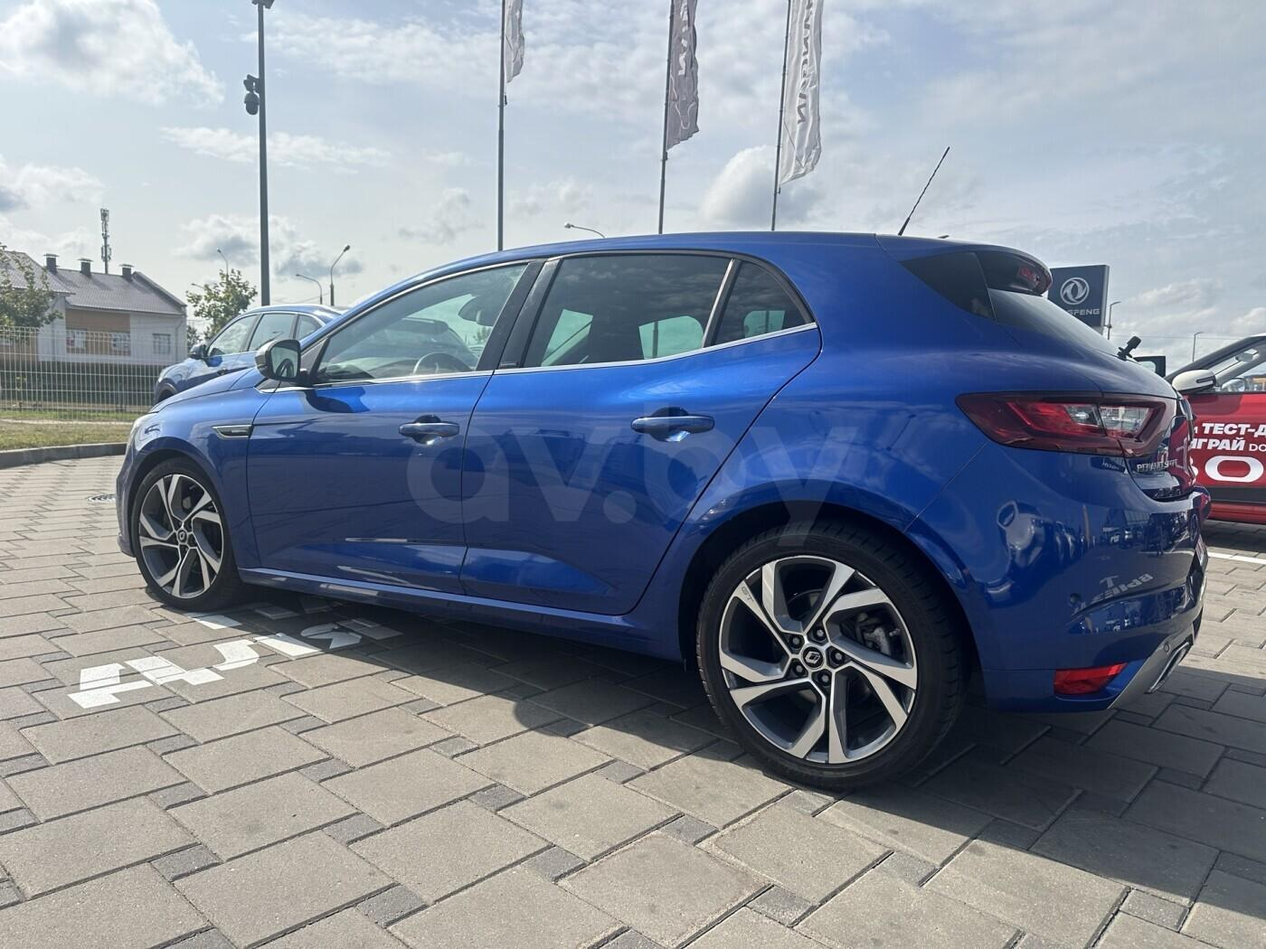Megane_2016-2020: (118, 219, 1213, 772)
